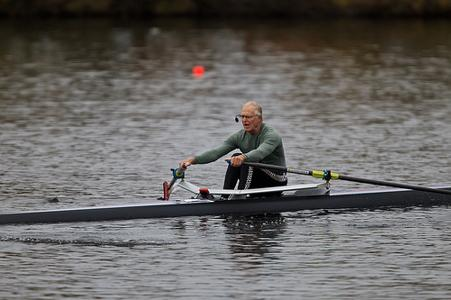person: (178, 102, 289, 200)
